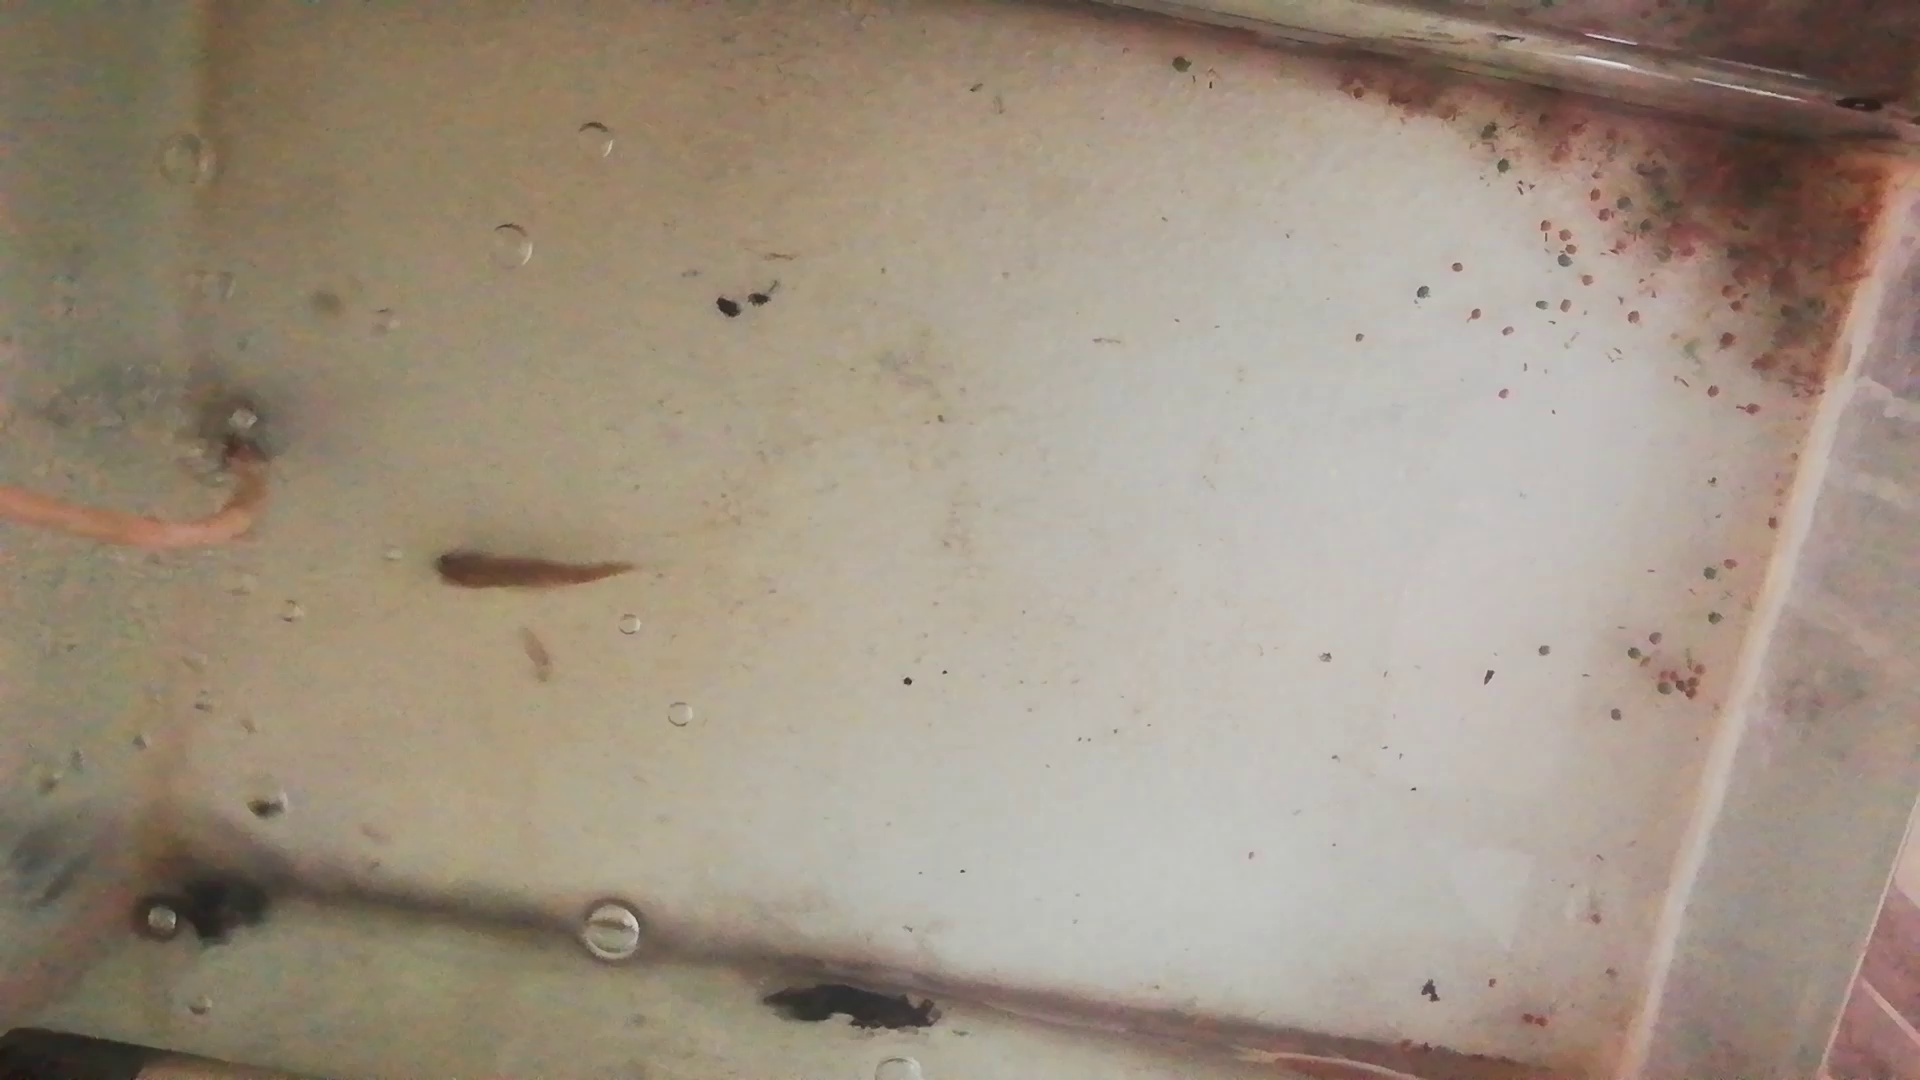fish: (425, 549, 637, 595)
